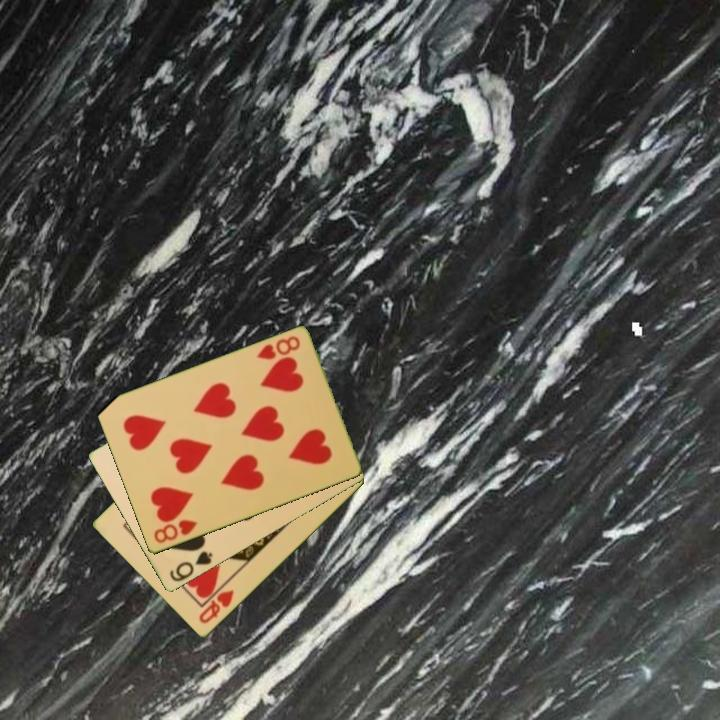6s: (166, 548, 216, 585)
8h: (150, 516, 200, 547), (253, 332, 303, 363)
Qh: (195, 586, 237, 627)
